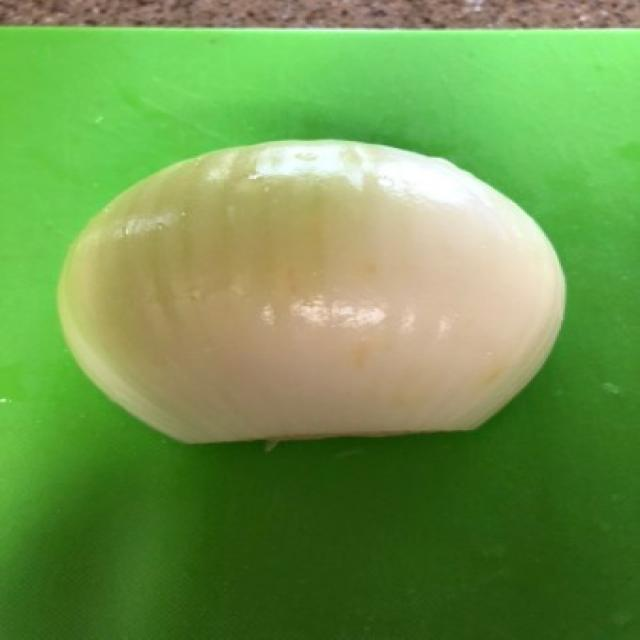onion: (25, 121, 588, 507)
